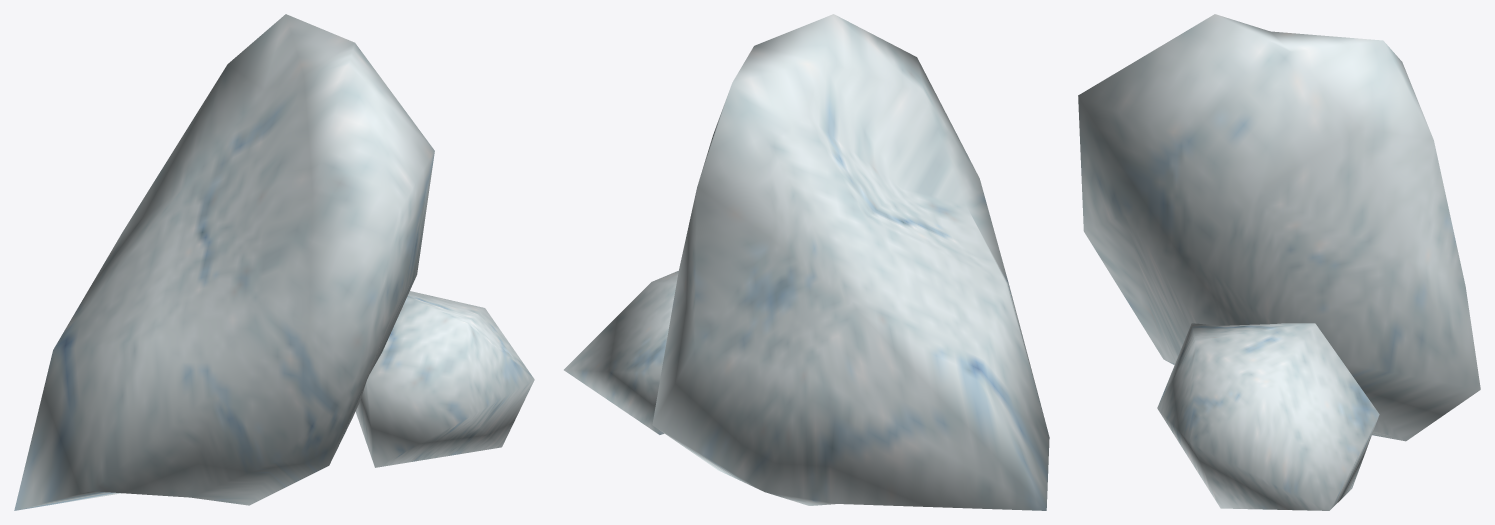
3 views of the same model, side by side, from view 1: azimuth 30°, elevation 25°; view 2: azimuth 150°, elevation 25°; view 3: azimuth 270°, elevation 25° (orthographic). The views are drawn at different scales.
Visible parts, largest first — view 1: a69; view 2: a69; view 3: a69.
Boxes of the visible parts, x1,y1,x2,y2 form: a69: [14, 14, 534, 510]; a69: [564, 14, 1049, 510]; a69: [1078, 14, 1480, 510].
Size of the model in its own units: 664 by 543 by 460.
